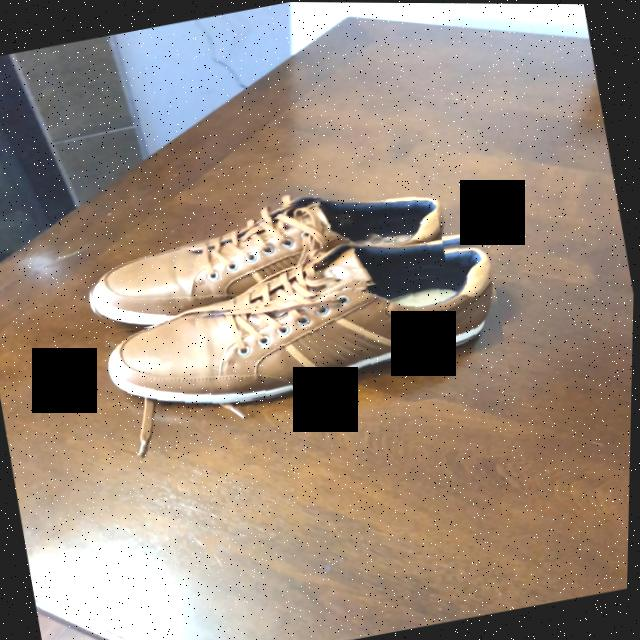shoe: (112, 248, 497, 452), (94, 200, 439, 328)
